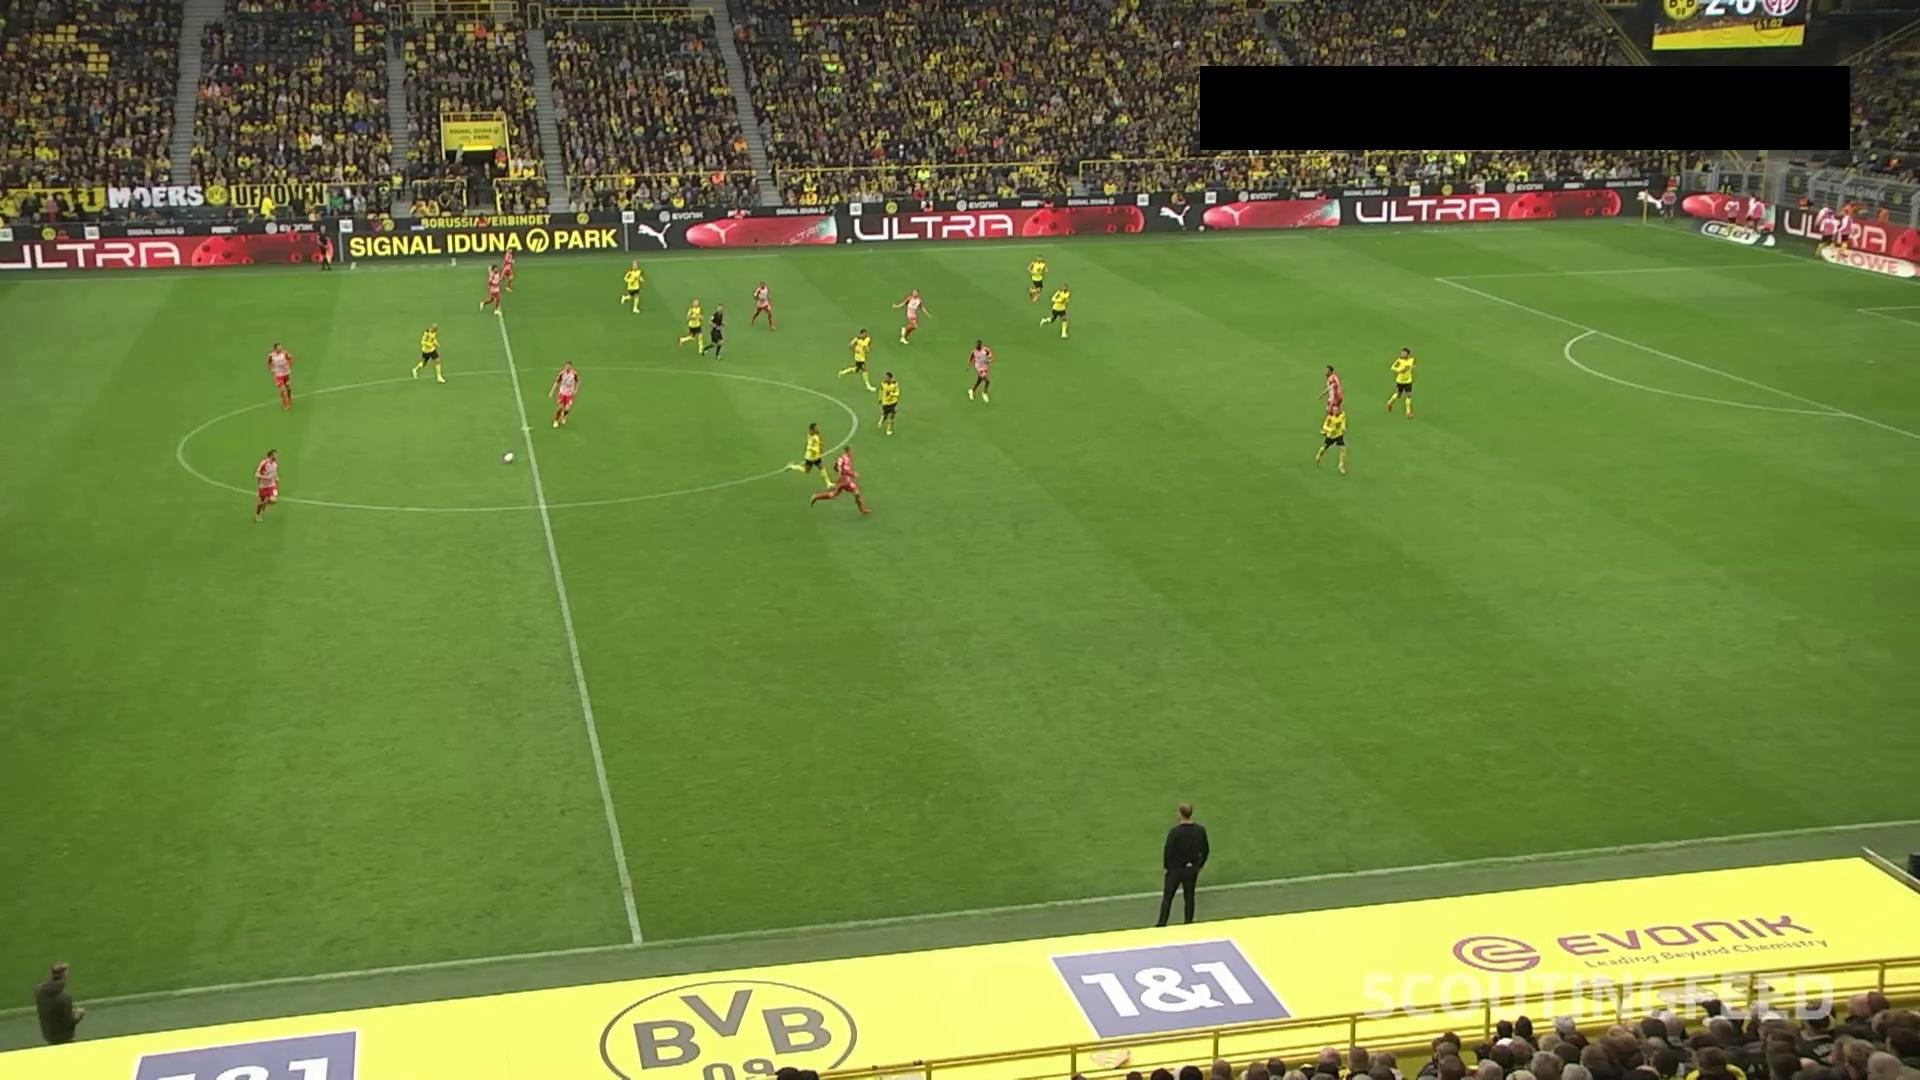Location-of-ball: (502, 448, 521, 468)
